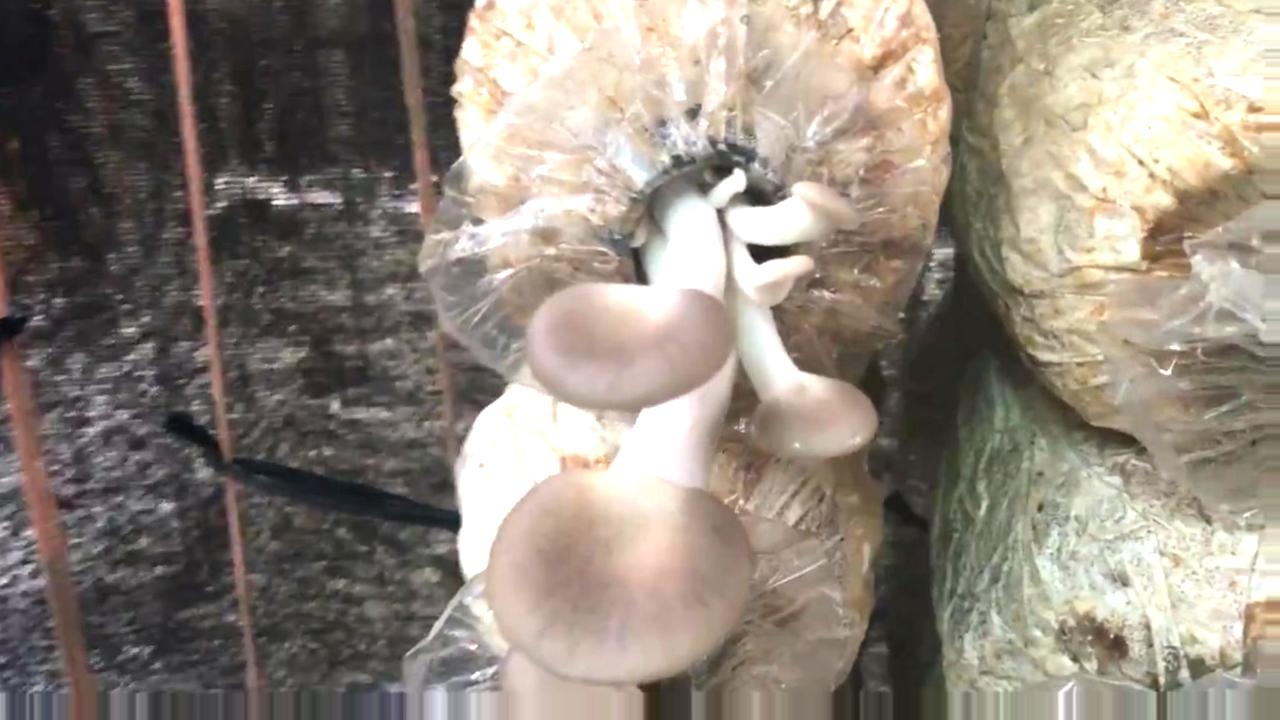nam: (487, 141, 880, 720)
